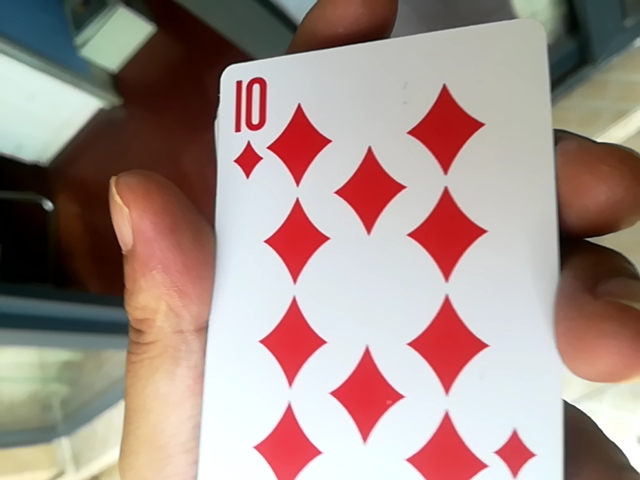fk 10: (203, 19, 579, 480)
